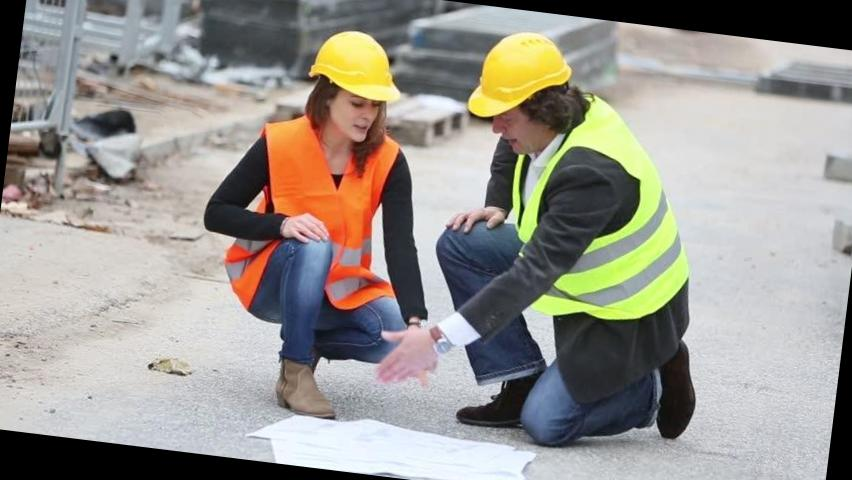Vest: (486, 130, 709, 332), (230, 108, 414, 322)
